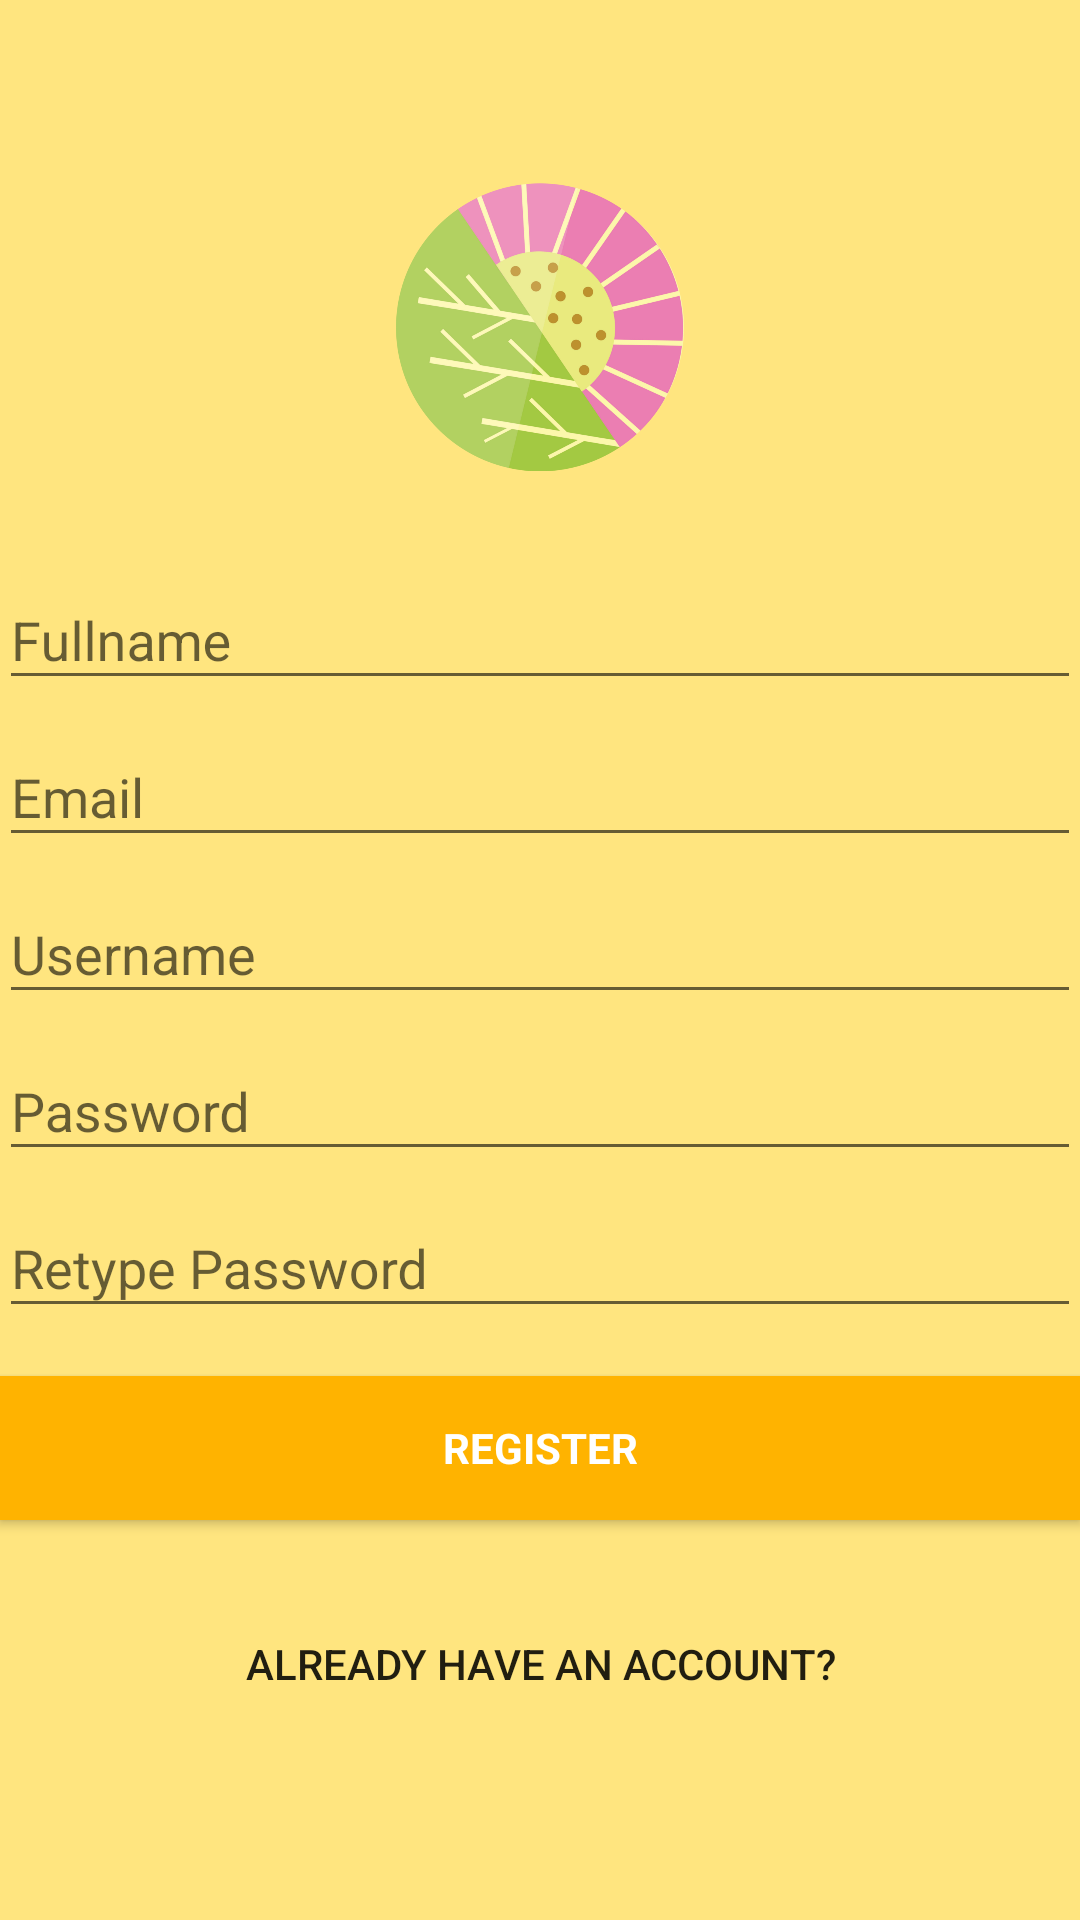

Locate icon controls on the screen. Image size 1080x1920, boxes as detection(x1, y1, x2, y2).
biodiv: detection(396, 183, 684, 471)
